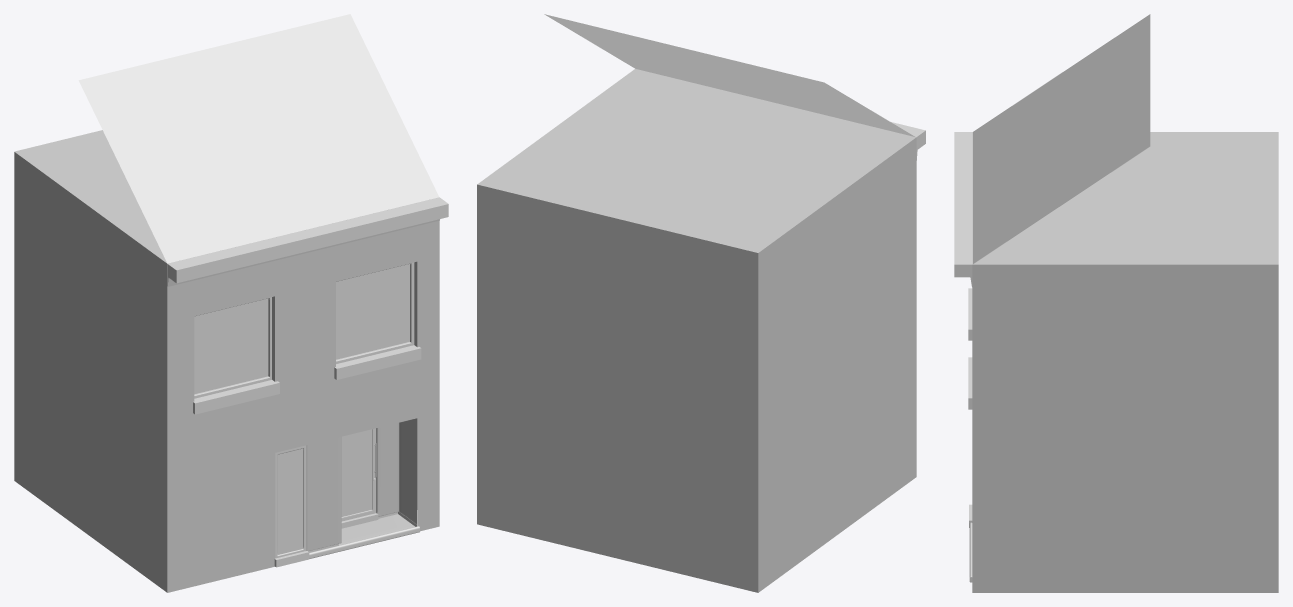
The picture shows the model from 3 angles, left to right: view 1: azimuth 30°, elevation 25°; view 2: azimuth 150°, elevation 25°; view 3: azimuth 270°, elevation 25°; orthographic projection. The views are drawn at different scales.
Parts seen in each view (by area): view 1: house base, roof, glass.001, doorway, roofstart, glass.002, glass, windowstone, Windowstone, step, WindowFrame, windowframe (+2 smaller); view 2: house base, roof; view 3: house base, roof, roofstart.
Boxes of the visible parts, bbox=[...] form: house base: bbox=[14, 130, 439, 592]; roof: bbox=[78, 14, 438, 263]; glass.001: bbox=[194, 264, 409, 394]; doorway: bbox=[306, 418, 417, 551]; roofstart: bbox=[167, 197, 448, 286]; glass.002: bbox=[277, 448, 303, 554]; glass: bbox=[341, 429, 371, 516]; windowstone: bbox=[334, 345, 421, 379]; Windowstone: bbox=[193, 380, 279, 414]; step: bbox=[339, 514, 415, 545]; WindowFrame: bbox=[275, 445, 306, 558]; windowframe: bbox=[336, 262, 414, 363]; house base: bbox=[477, 69, 916, 592]; roof: bbox=[544, 14, 914, 136]; house base: bbox=[972, 132, 1278, 592]; roof: bbox=[973, 14, 1150, 263]; roofstart: bbox=[954, 132, 972, 286].
Bounding box in the file's own units: 205 × 322 × 212.
